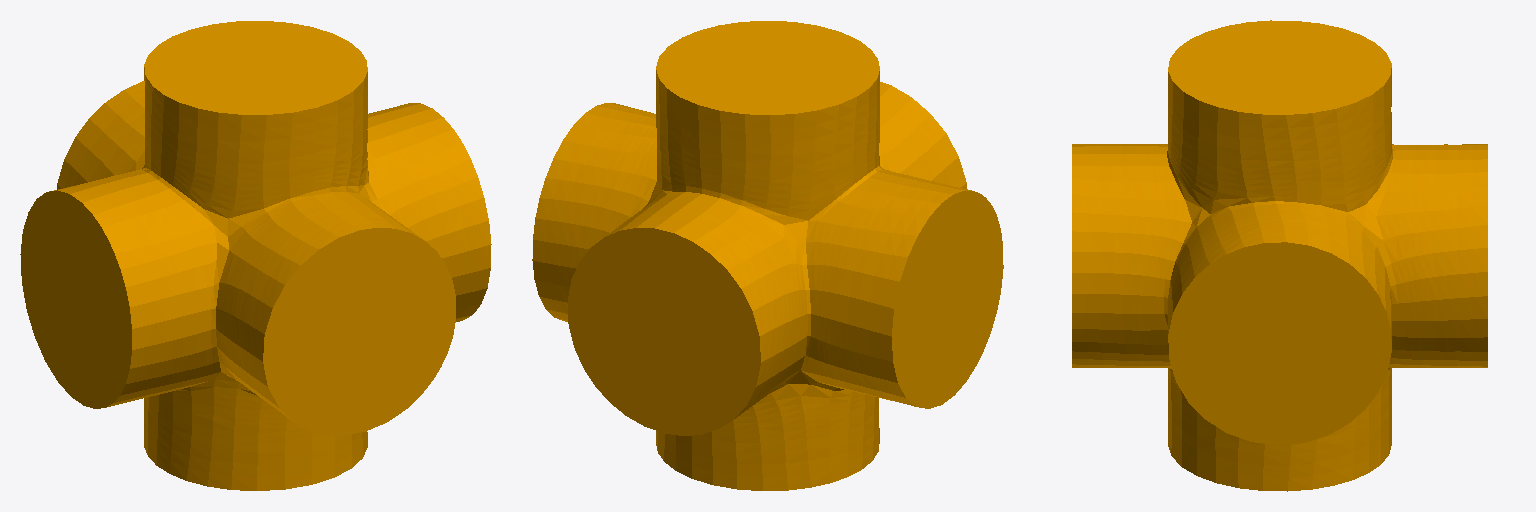
URDF robot description (object):
<robot name="object">
  <link name="object">
    <visual>
      <origin xyz="0 0 0"/>
      <geometry>
        <mesh filename="visual.obj" scale="1 1 1"/>
      </geometry>
    </visual>
    <collision>
      <origin xyz="0 0 0"/>
      <geometry>
        <mesh filename="visual.obj" scale="1 1 1"/>
      </geometry>
    </collision>
    <inertial>
      <mass value="0.05"/>
      <inertia ixx="4.605235517196762e-05" iyy="4.605267922835068e-05" izz="4.606173672076008e-05" ixy="-2.7789545178277787e-09" ixz="2.705250130342146e-10" iyz="5.793675404941724e-09"/>
    </inertial>
  </link>
</robot>

--- Facts derived from the render (not from the file) ---
3 views of the same robot in one strip: view 1: azimuth 30°, elevation 25°; view 2: azimuth 150°, elevation 25°; view 3: azimuth 270°, elevation 25° (orthographic).
Robot: object — 1 links, 0 joints (none); root link object; default pose: every joint at zero.
Links seen in each view (by area): view 1: object; view 2: object; view 3: object.
Boxes of the visible links, <box> form: object: <box>20,21,491,490</box>; object: <box>532,21,1003,490</box>; object: <box>1072,20,1487,491</box>.
Bounding box of the posed robot: 0.096 × 0.096 × 0.096 m (x, y, z).
1 mesh visuals loaded from 1 distinct referenced files (1 OBJ).
